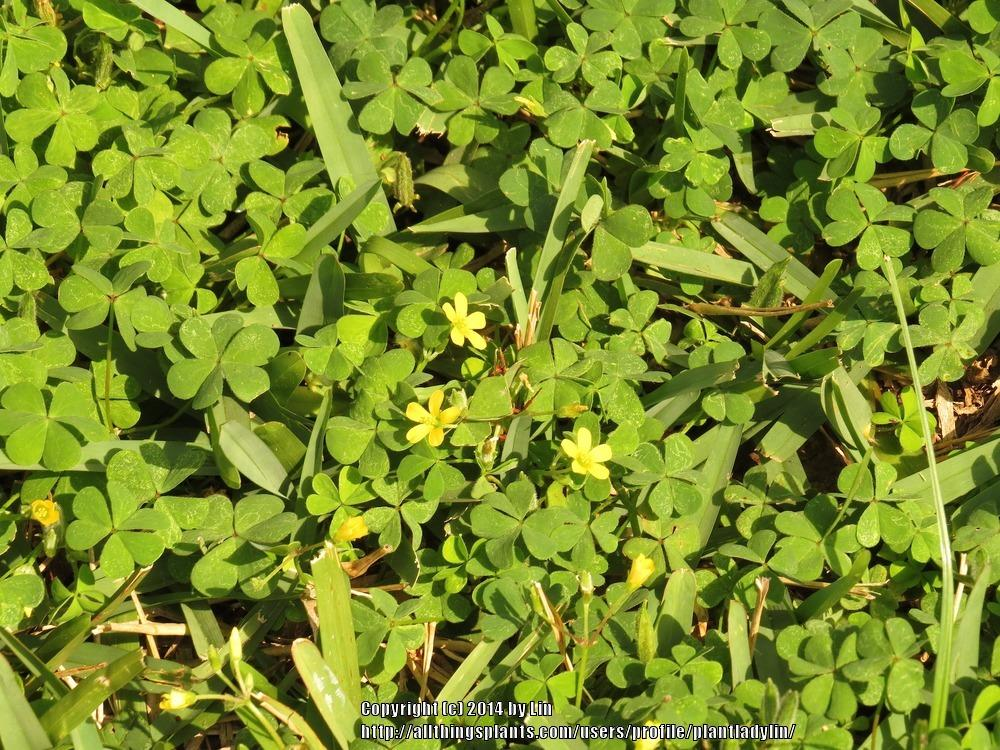oxalis: (17, 37, 961, 750)
